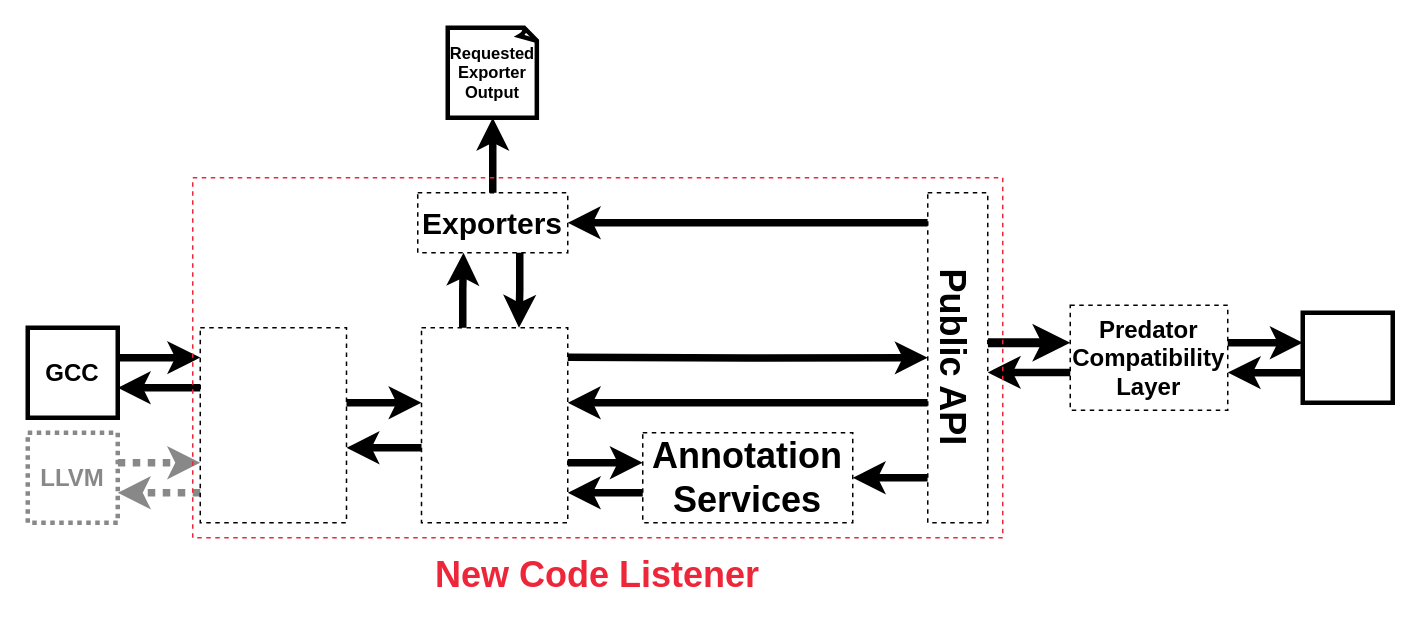
Some shapes in this 1421 by 624 pixel diagram are drawn without their labels. Here are the shapes that lost their labels. From the top down, the centre of each, then its label:
the point at 1347,357: Predator
the point at 272,424: Compiler Abstraction Layer
the point at 494,424: Core
